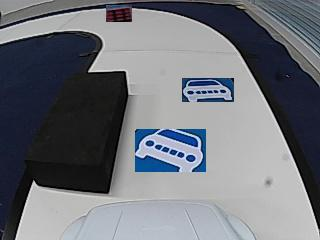block: (38, 72, 125, 191)
